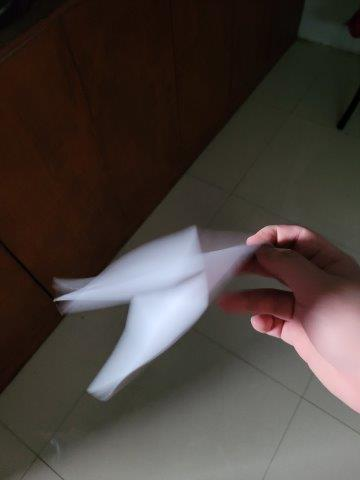kertas: (57, 227, 270, 399)
